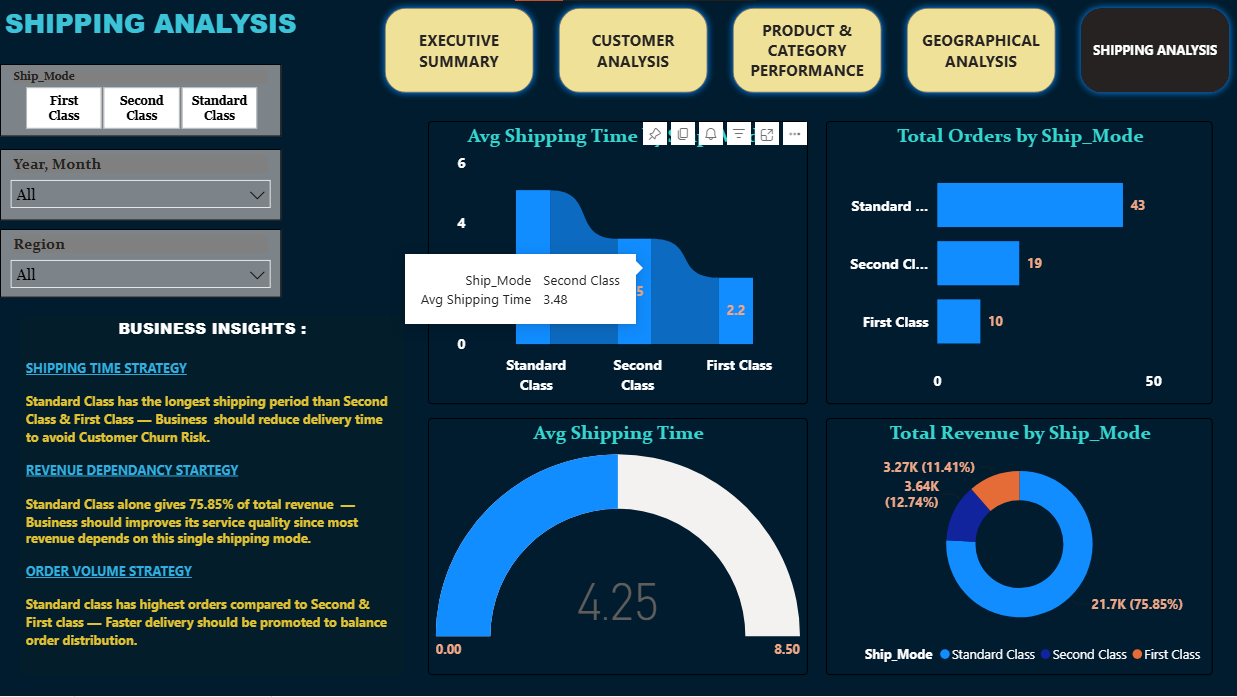

What the dashboard file says about the page in this screenshot:
{"tool":"powerbi","page":{"name":"SHIPPING ANALYSIS","canvas":[1280,720],"ordinal":4},"visuals":[{"type":"donutChart","fields":{"Category":["sales_data.Ship_Mode"],"Y":["_measures.Total Revenue"]},"box":[854.8,432.6,400.2,266.3],"z":0},{"type":"gauge","fields":{"Y":["_measures.Avg Shipping Time"]},"box":[442.9,432.6,392.8,266.3],"z":1},{"type":"ribbonChart","fields":{"Category":["sales_data.Ship_Mode"],"Y":["_measures.Avg Shipping Time"]},"box":[442.9,125.1,392.8,292.8],"z":2},{"type":"clusteredBarChart","fields":{"Category":["sales_data.Ship_Mode"],"Y":["_measures.Total Orders"]},"box":[854.8,125.1,400.2,292.8],"z":3},{"type":"textbox","box":[0,0,360.5,66.2],"z":4},{"type":"slicer","fields":{"Values":["Date.Year","Date.Month"]},"box":[0,154.5,291.3,73.6],"z":5},{"type":"slicer","fields":{"Values":["sales_data.Ship_Mode"]},"box":[0,66.2,291.3,75],"z":6},{"type":"slicer","fields":{"Values":["sales_data.Region"]},"box":[0,236.9,291.3,70.6],"z":7},{"type":"textbox","box":[22.1,326.6,395.8,372.2],"z":8},{"type":"pageNavigator","box":[389.9,0,890.1,104.5],"z":9}]}

Visuals, with their boxes in screenshot pixels (x1, y1, x2, y2), scaled from the page's 1280x720 canvas onto the 1237x697 screenshot:
donutChart - sales_data.Ship_Mode x _measures.Total Revenue: BBox(826, 419, 1213, 677)
gauge - _measures.Avg Shipping Time: BBox(428, 419, 808, 677)
ribbonChart - sales_data.Ship_Mode x _measures.Avg Shipping Time: BBox(428, 121, 808, 405)
clusteredBarChart - sales_data.Ship_Mode x _measures.Total Orders: BBox(826, 121, 1213, 405)
textbox: BBox(0, 0, 348, 64)
slicer - Date.Year x Date.Month: BBox(0, 150, 282, 221)
slicer - sales_data.Ship_Mode: BBox(0, 64, 282, 137)
slicer - sales_data.Region: BBox(0, 229, 282, 298)
textbox: BBox(21, 316, 404, 676)
pageNavigator: BBox(377, 0, 1236, 101)
